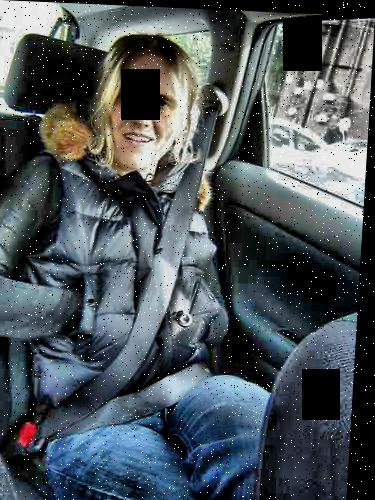seatbelt: (46, 72, 241, 431)
